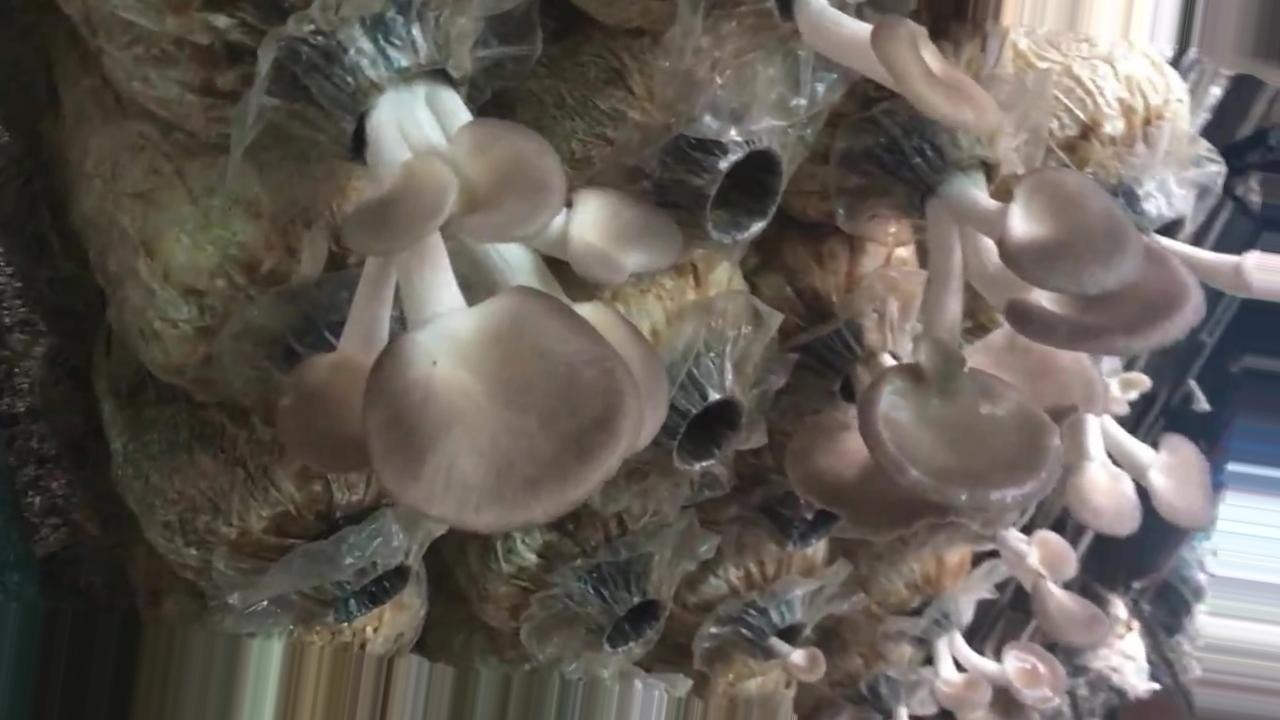nam: (275, 17, 680, 532), (856, 114, 1280, 514), (1066, 371, 1214, 535), (793, 1, 999, 109), (924, 598, 1068, 716), (985, 513, 1109, 646), (742, 600, 824, 682)
